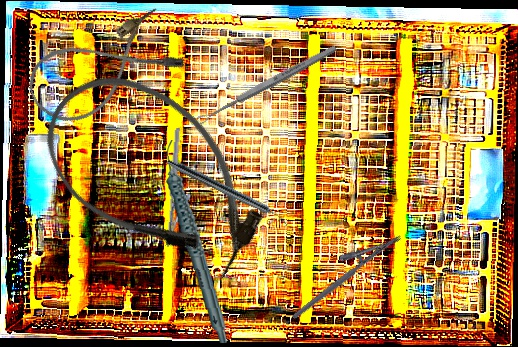Cannula: (19, 46, 291, 302), (17, 2, 189, 136)
Handpiece: (162, 137, 229, 346), (164, 156, 292, 228)
Needle Holder: (280, 219, 403, 321), (164, 127, 197, 249)
Surgical Spoon: (196, 43, 338, 126)
